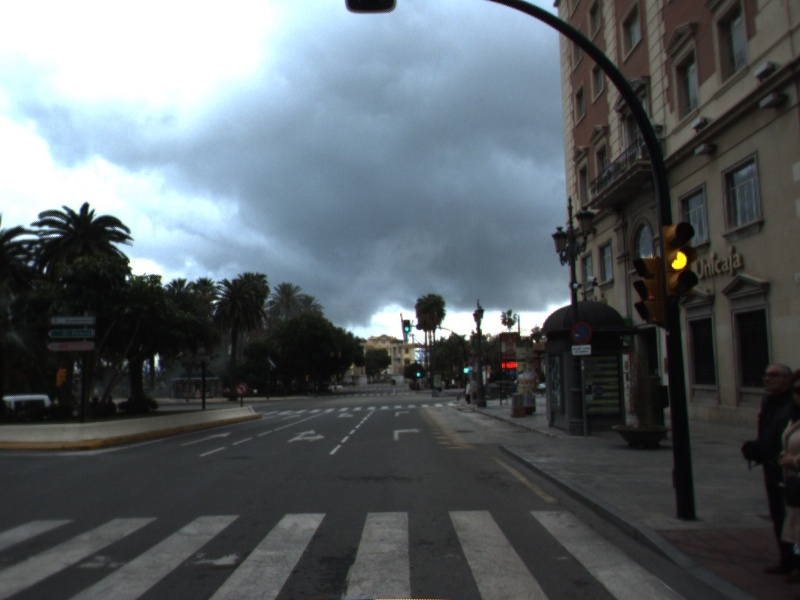RIGHT: (390, 424, 425, 443)
STRAIGHT: (177, 430, 234, 448)
STRAIGHT_RIGHT: (284, 427, 327, 445)
